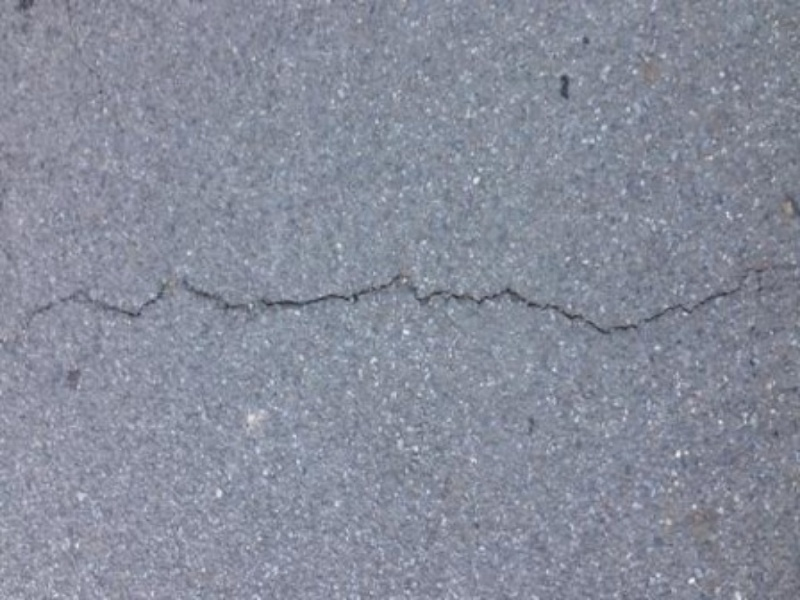crack: (26, 248, 792, 348)
